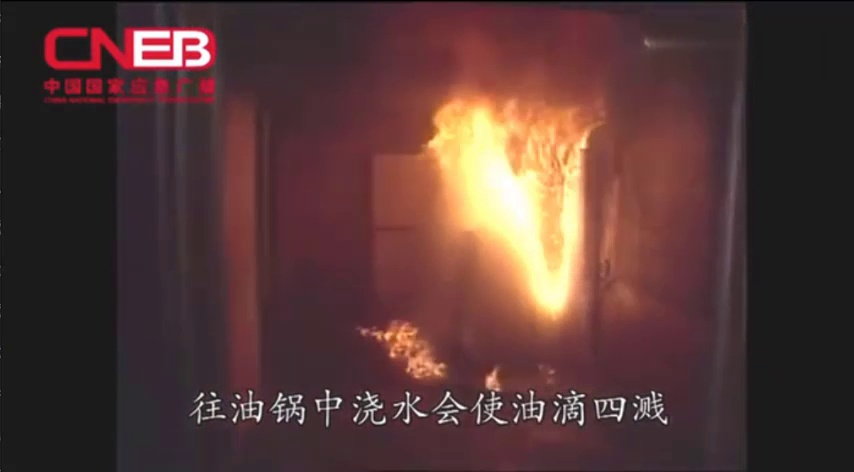fire: (412, 63, 616, 333)
